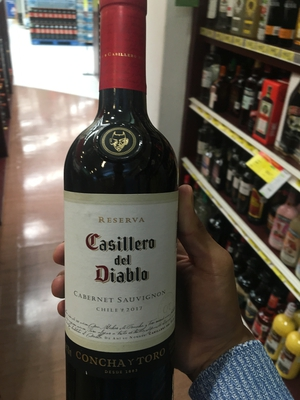casillero del diablo cabernet sauvignon: (64, 10, 179, 400)
